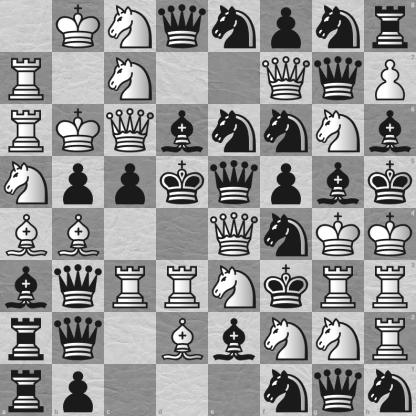B: (1, 209, 52, 260), (53, 209, 104, 260), (157, 313, 208, 364)
K: (364, 209, 416, 260), (53, 1, 104, 52), (53, 105, 104, 156), (313, 209, 364, 260)
N: (1, 157, 52, 208), (105, 1, 156, 52), (105, 53, 156, 104), (209, 261, 260, 312), (261, 313, 312, 364), (313, 105, 364, 156), (313, 313, 364, 364)
P: (364, 52, 416, 104)
Q: (105, 105, 156, 156), (209, 209, 260, 260), (261, 53, 312, 104)
R: (364, 260, 416, 312), (364, 312, 416, 364), (1, 53, 52, 104), (1, 105, 52, 156), (105, 261, 156, 312), (157, 261, 208, 312), (313, 261, 364, 312)
b: (364, 104, 416, 156), (1, 261, 52, 312), (157, 105, 208, 156), (209, 313, 260, 364), (313, 157, 364, 208)
board: (0, 0, 415, 415)
k: (364, 156, 416, 209), (157, 157, 208, 208), (261, 261, 312, 312)
n: (260, 364, 312, 416), (364, 364, 416, 416), (209, 1, 260, 52), (209, 105, 260, 156), (261, 105, 312, 156), (261, 209, 312, 260), (313, 1, 364, 52)
p: (52, 364, 104, 416), (53, 157, 104, 208), (105, 157, 156, 208), (261, 1, 312, 52), (261, 157, 312, 208)
q: (312, 364, 364, 416), (53, 261, 104, 312), (53, 313, 104, 364), (157, 1, 208, 52), (209, 157, 260, 208), (313, 53, 364, 104)
r: (0, 364, 52, 416), (364, 0, 416, 52), (1, 313, 52, 364)
